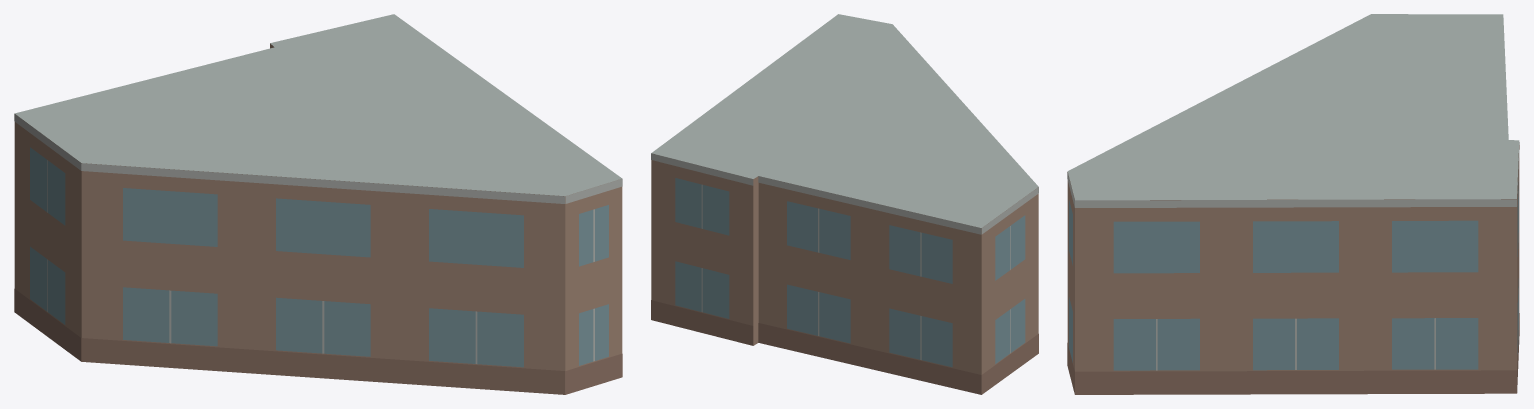
File: survey-upis-32501177.glb
3 renders of one model, left to right at view 1: azimuth 30°, elevation 25°; view 2: azimuth 150°, elevation 25°; view 3: azimuth 270°, elevation 25°, orthographic. The views are drawn at different scales.
Visible parts, largest first — view 1: survey-upis-32501177.tmp; view 2: survey-upis-32501177.tmp; view 3: survey-upis-32501177.tmp.
Part boxes in pixels (left/top/right/bottom): survey-upis-32501177.tmp: left=14, top=14, right=622, bottom=394; survey-upis-32501177.tmp: left=651, top=14, right=1038, bottom=394; survey-upis-32501177.tmp: left=1067, top=14, right=1519, bottom=394.
Bounding box in the file's own units: 12.54 × 6.1 × 12.85.
